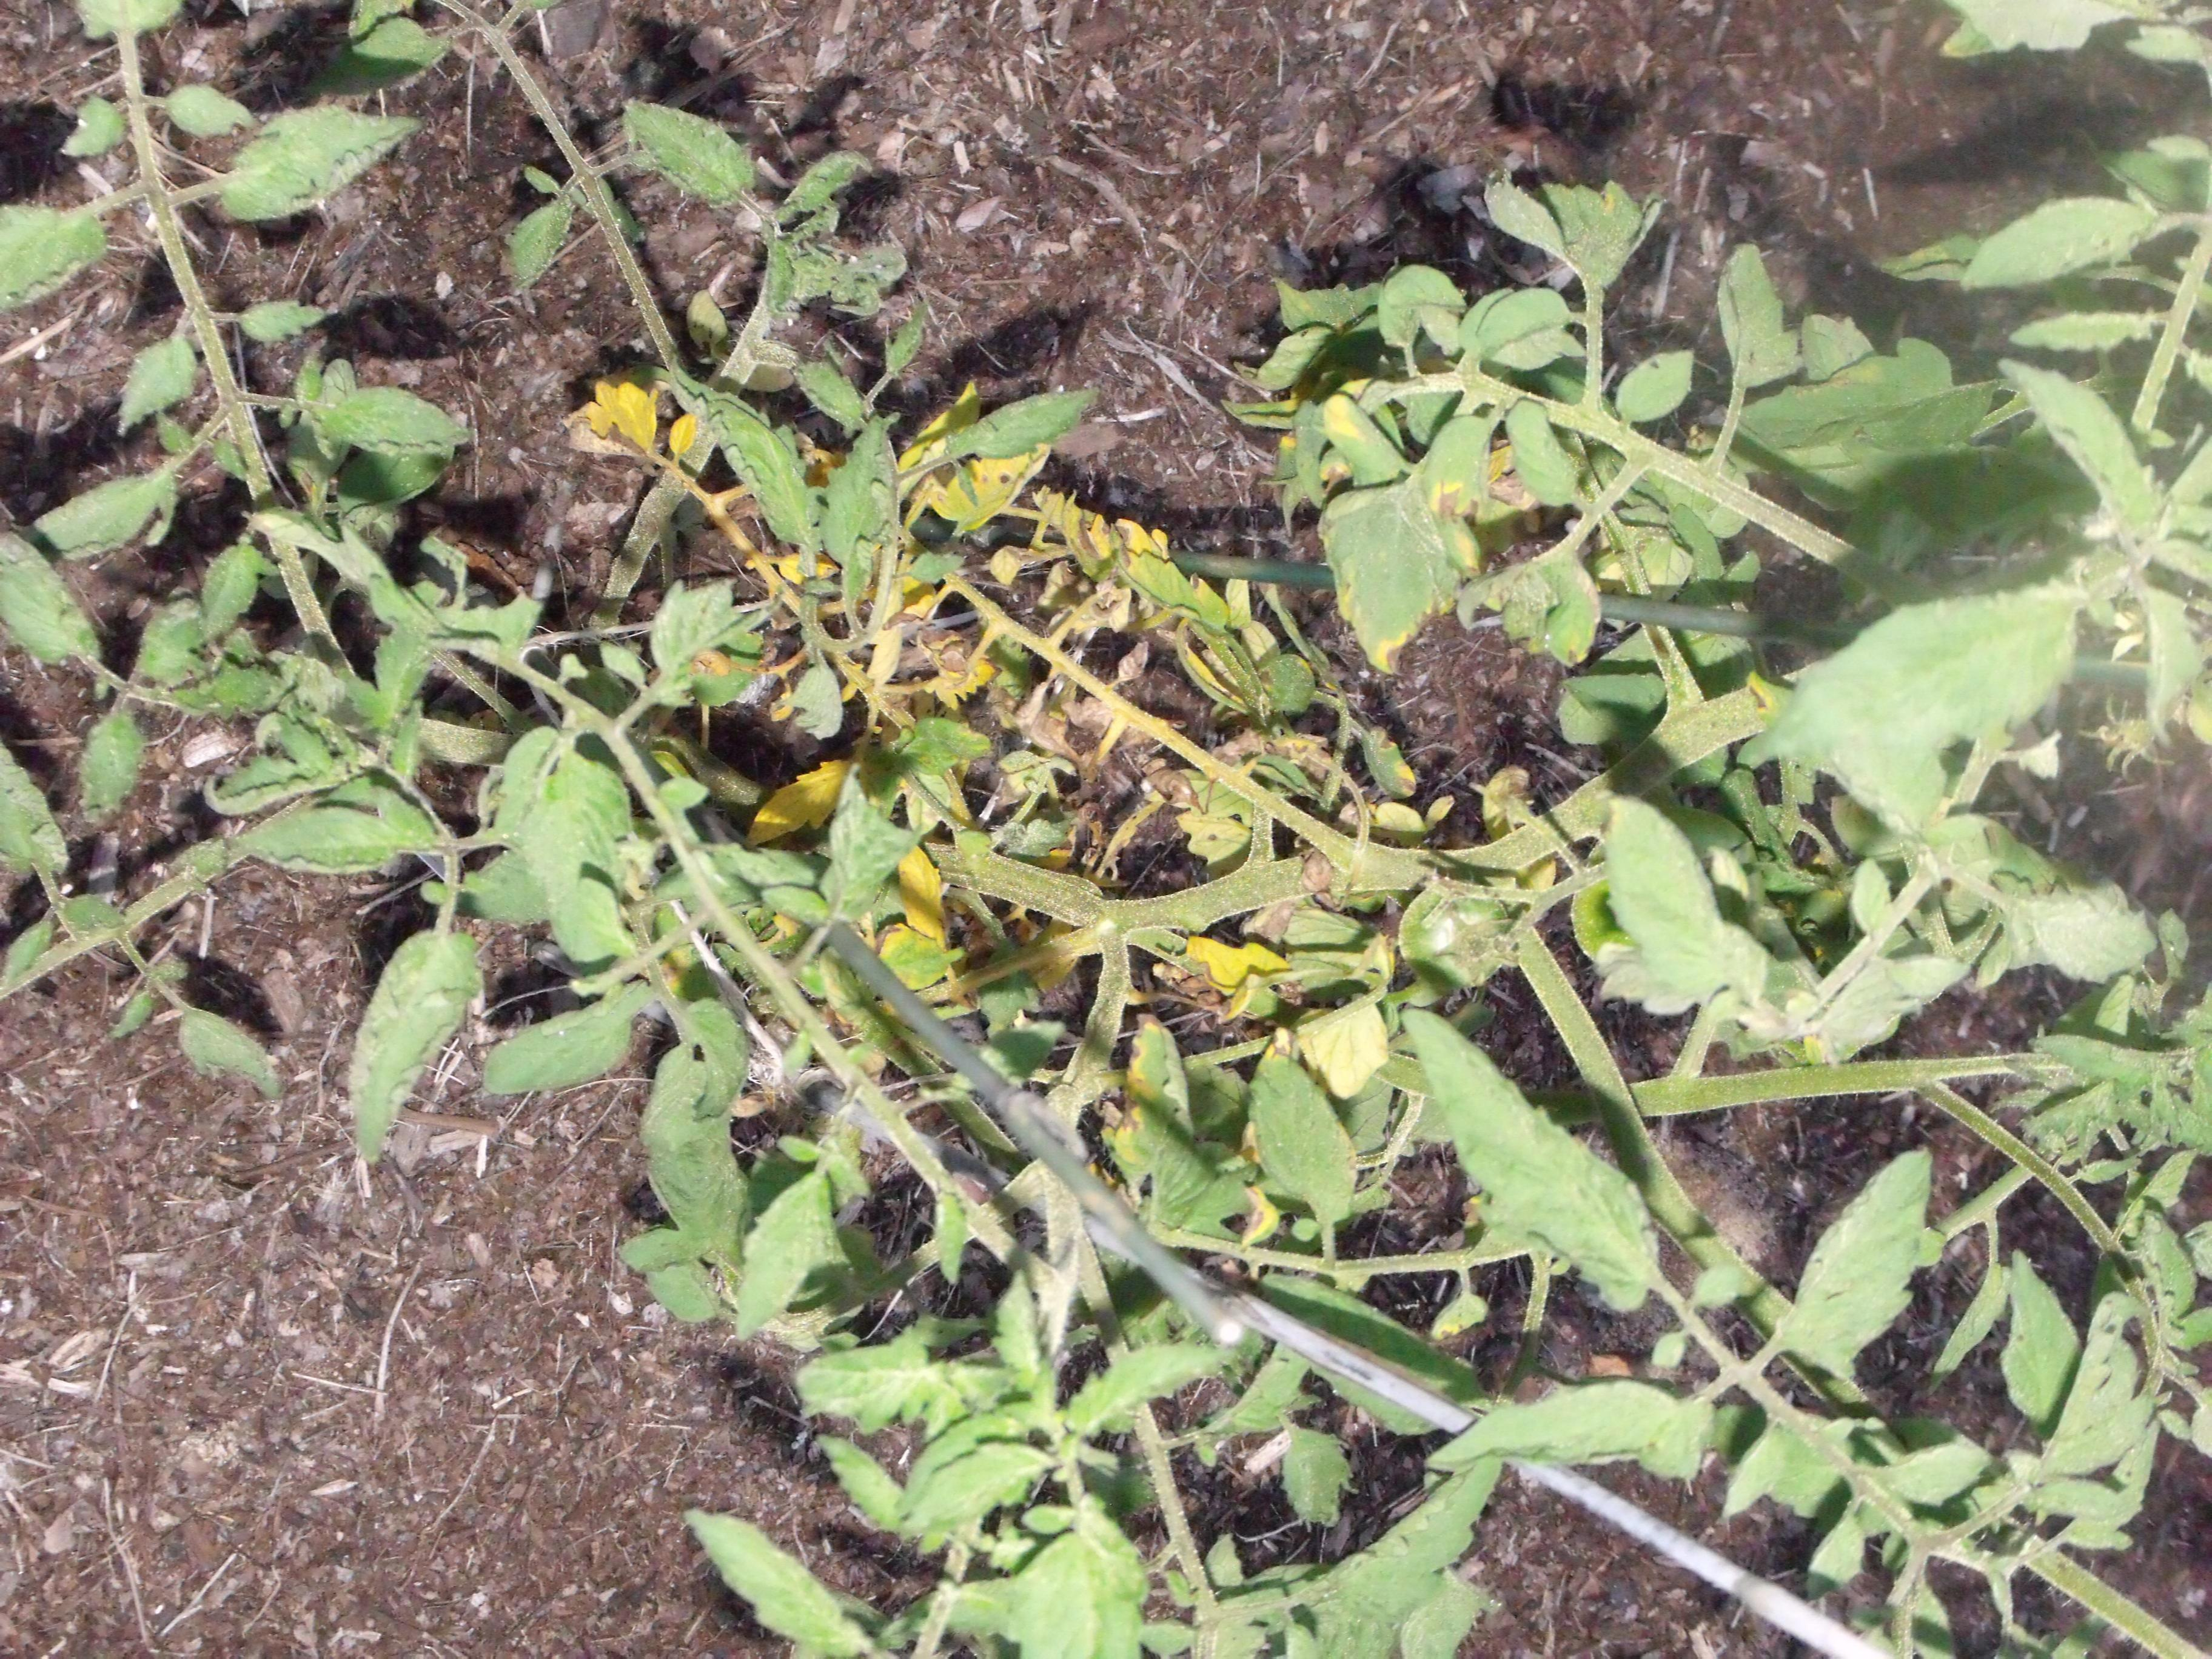Tomato leaf bacterial spot: (1416, 1006, 1679, 1317), (1794, 1136, 1966, 1408), (1409, 1363, 1737, 1504), (1590, 784, 1764, 1040), (1075, 1006, 1247, 1244), (1296, 464, 1493, 669), (777, 1319, 1062, 1455), (698, 1138, 894, 1335), (467, 950, 685, 1110), (695, 364, 838, 599), (1211, 1019, 1366, 1234), (1475, 507, 1604, 709)
